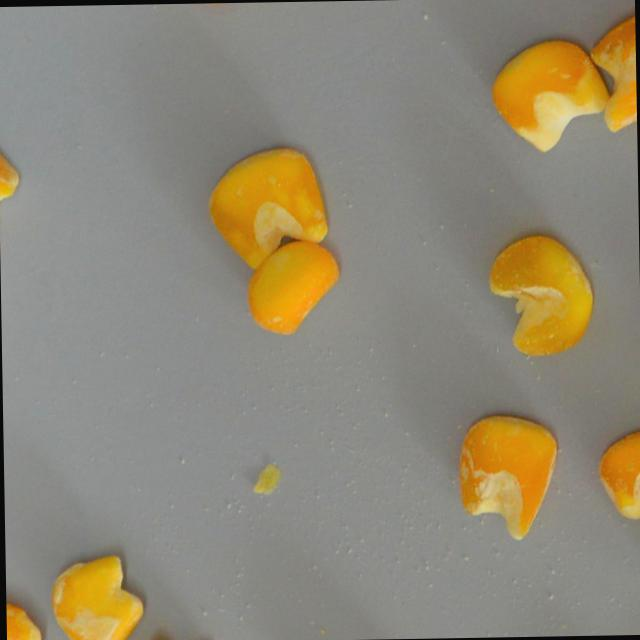dañado: (200, 138, 331, 275), (476, 227, 601, 363), (449, 408, 561, 547), (593, 421, 640, 523)
pelicula: (485, 34, 611, 160), (244, 239, 344, 343), (45, 546, 146, 640), (584, 0, 637, 142), (0, 132, 22, 238), (5, 591, 42, 640)
